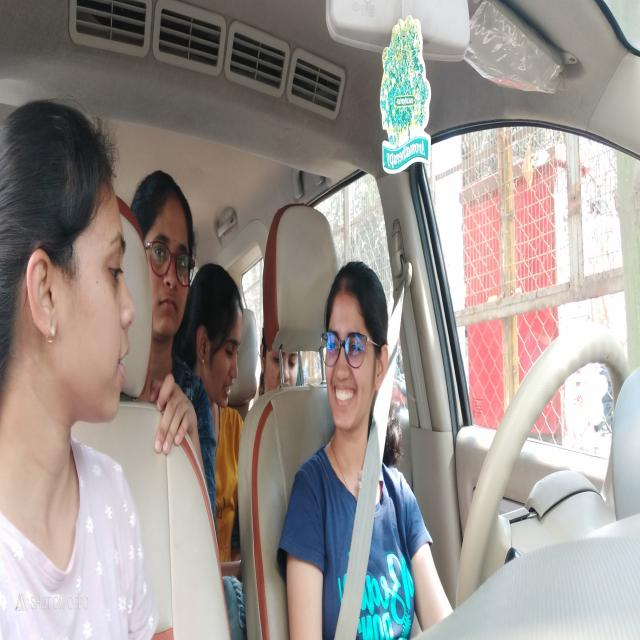LeftRight: (323, 250, 393, 461)
person: (0, 83, 140, 430), (132, 172, 196, 350), (202, 259, 245, 429), (261, 303, 303, 408)
talking: (330, 380, 360, 415)
